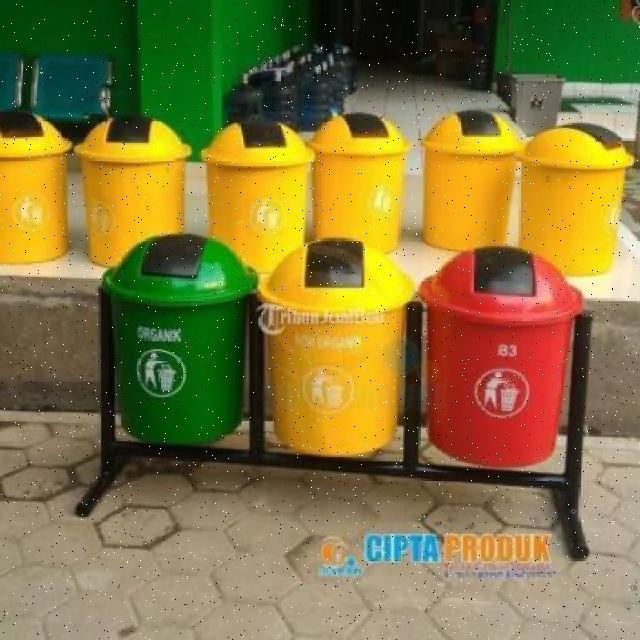garbage container: (254, 231, 419, 467), (418, 248, 591, 473), (102, 228, 263, 462), (76, 114, 201, 274), (199, 117, 318, 277), (521, 120, 640, 280), (306, 110, 419, 258), (417, 106, 522, 254), (2, 105, 78, 267)
